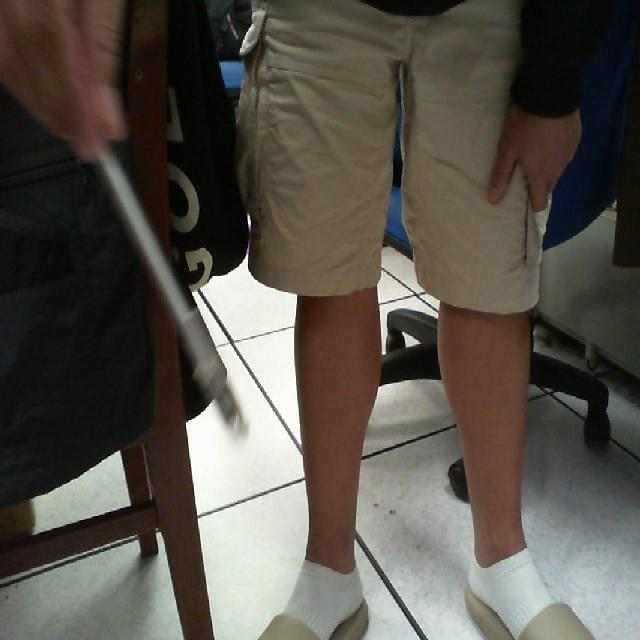Pen: (45, 64, 269, 470)
